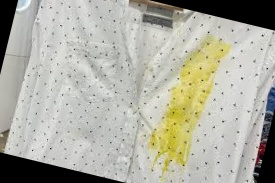mustard: (141, 29, 227, 183)
